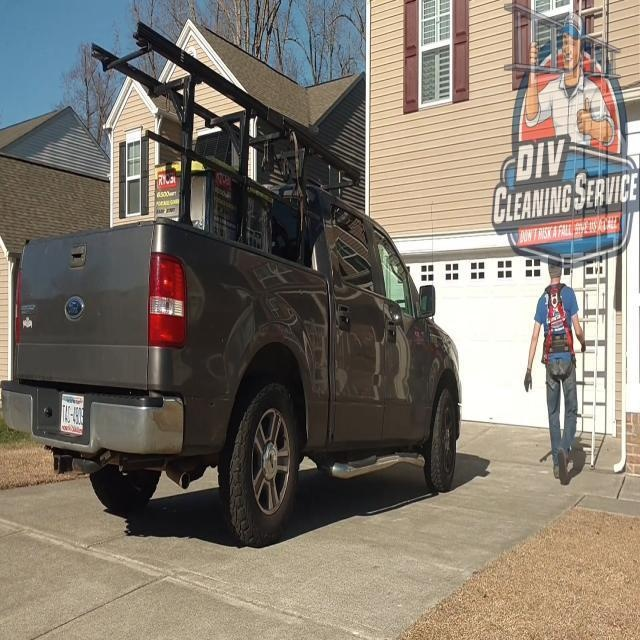Arnes_seguridad: (538, 278, 577, 385)
